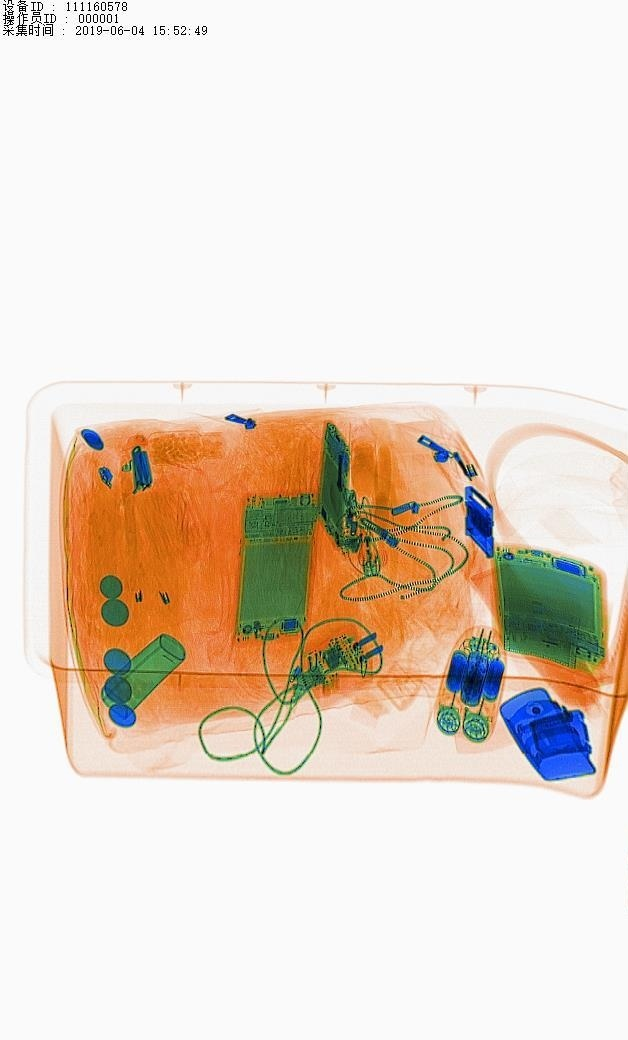NonmetallicFire: (348, 483, 397, 592)
